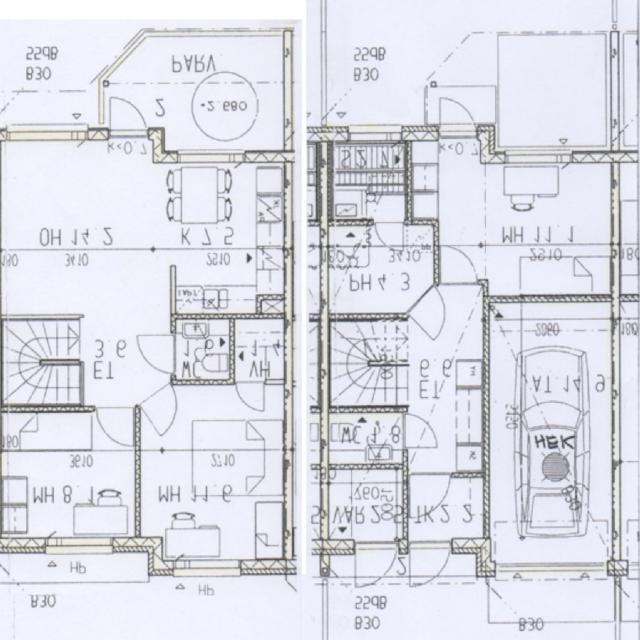door: (405, 284, 462, 344), (139, 381, 192, 438), (355, 542, 397, 593), (440, 86, 477, 139), (410, 542, 450, 589), (411, 471, 450, 518), (95, 406, 134, 452), (133, 334, 176, 374), (441, 241, 478, 287), (110, 97, 144, 135), (403, 414, 442, 447), (236, 379, 265, 414), (376, 219, 404, 254)
